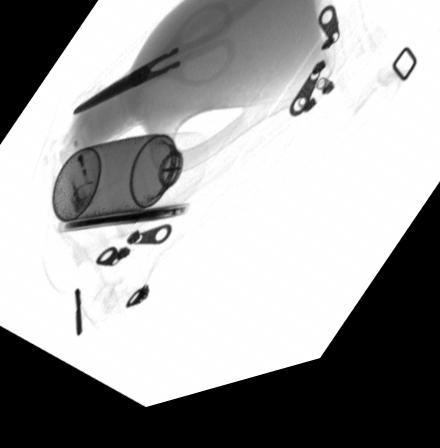Lighter: (59, 139, 97, 222)
Powerbank: (53, 211, 194, 241)
Scissors: (68, 14, 236, 120)
Sprayer: (50, 140, 207, 227)
